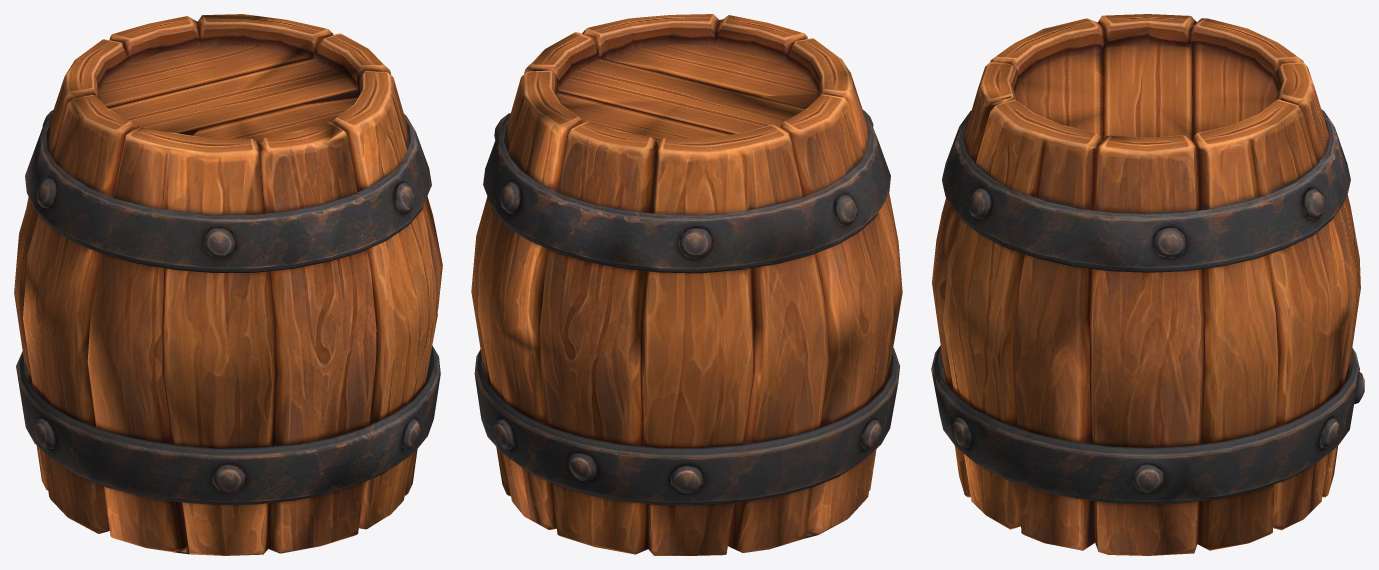
File: wooden_barrel.glb
The picture shows the model from 3 angles, left to right: view 1: azimuth 30°, elevation 25°; view 2: azimuth 150°, elevation 25°; view 3: azimuth 270°, elevation 25°; orthographic projection.
Visible parts, largest first — view 1: wooden_barrel; view 2: wooden_barrel; view 3: wooden_barrel.
Boxes of the visible parts, box(x1,y1,x2,y2) form: wooden_barrel: box(14, 14, 442, 555); wooden_barrel: box(471, 14, 902, 555); wooden_barrel: box(931, 14, 1364, 555).
Size of the model in its own units: 0.5969 by 0.6 by 0.5892.
Materials: 1 (1 with a texture image).
